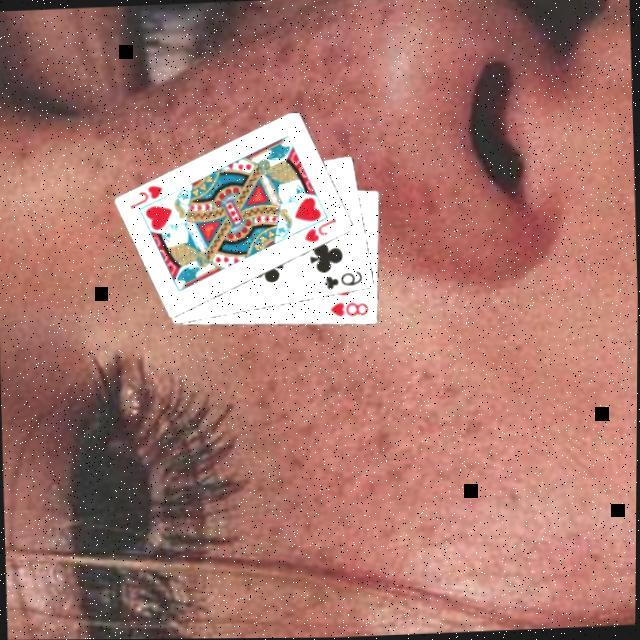6C: (319, 266, 364, 292)
8H: (324, 297, 370, 320)
JH: (298, 213, 338, 244), (124, 180, 164, 210)
